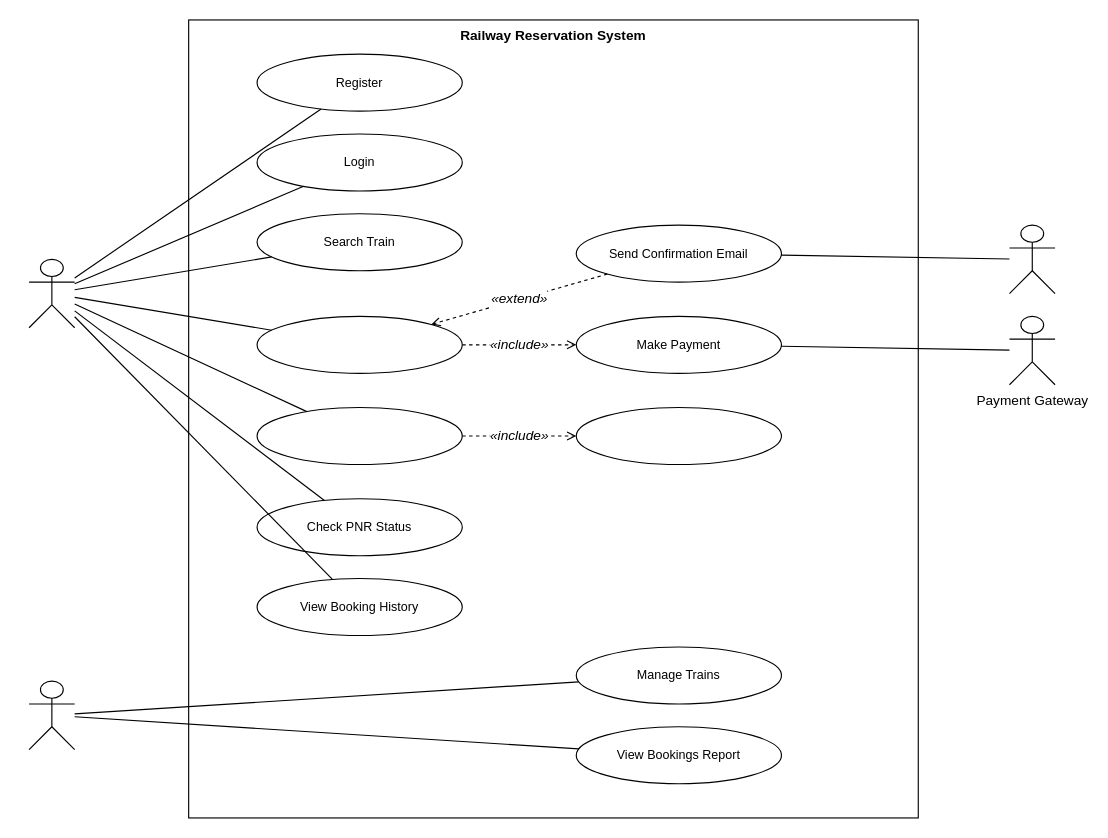
The diagram is 1108 pixels wide and 838 high, and some of its shapes have lost their labels. The centre of each missing label's shape, as x and y in pixels:
Admin: the point at 51,715
Book Ticket: the point at 359,344
Cancel Ticket: the point at 359,435
Email Service: the point at 1031,259
Passenger: the point at 51,293
Process Refund: the point at 678,435
